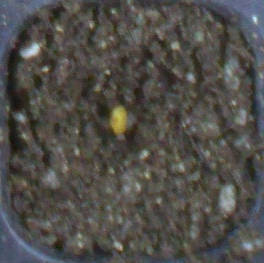chilli seed: (110, 104, 127, 135)
